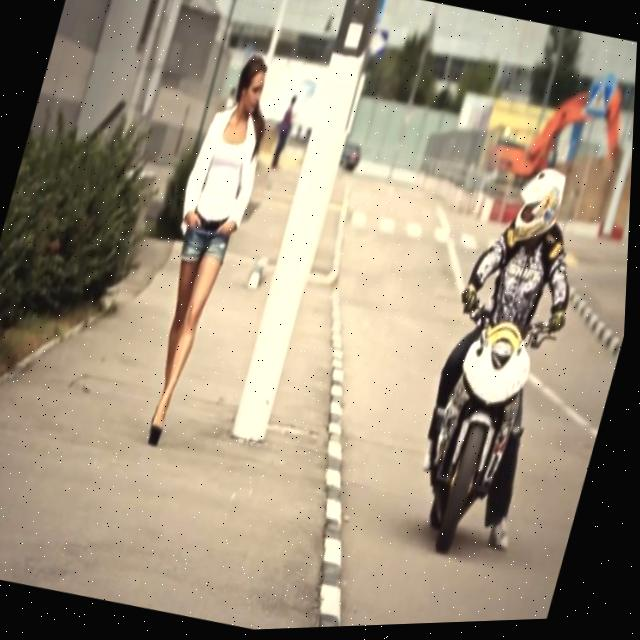motorcycle: (386, 289, 569, 571)
